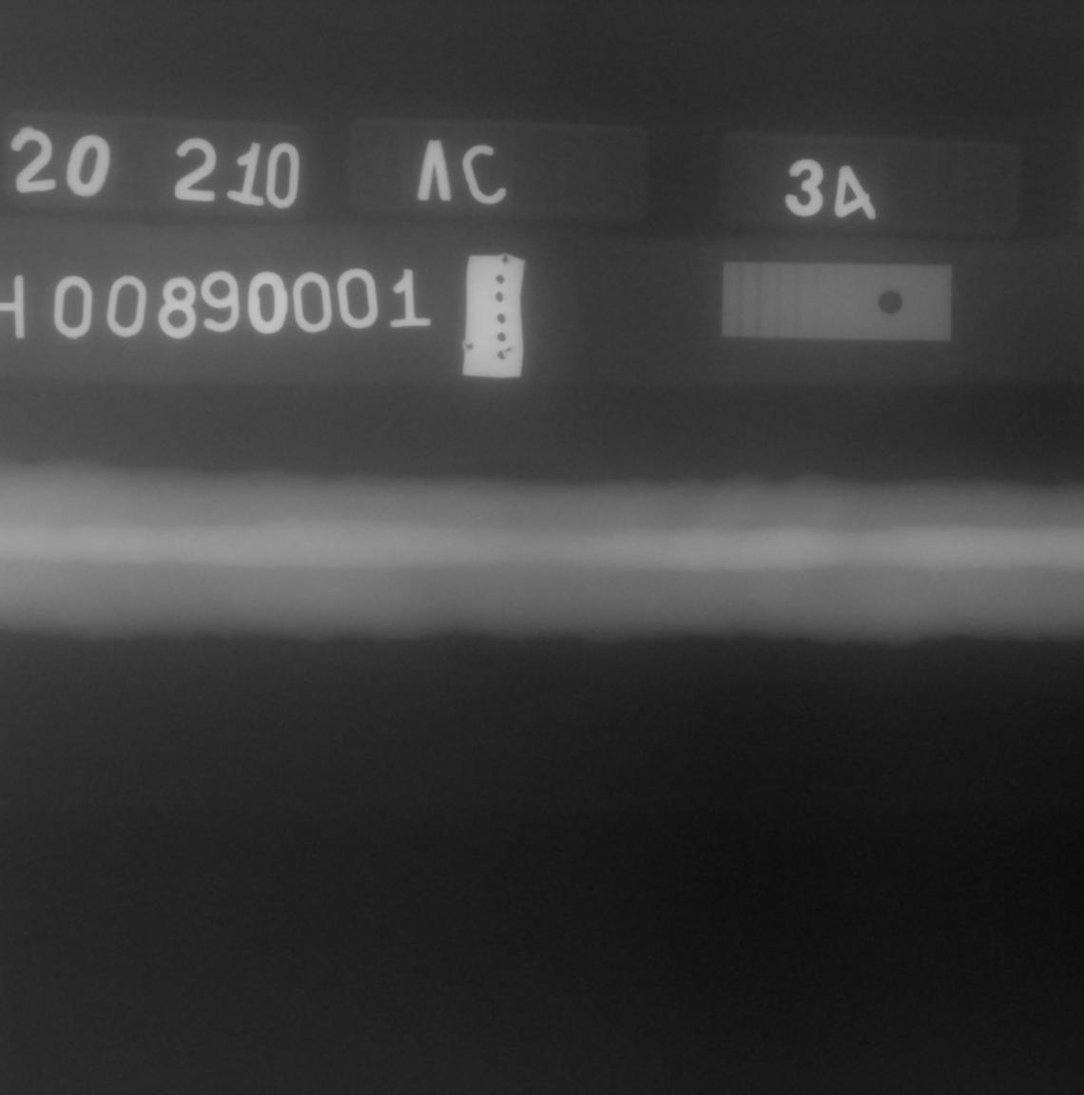Reference Standard 1: (721, 262, 952, 341)
